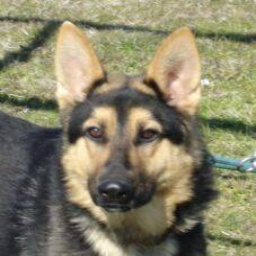dog: (0, 20, 218, 256)
